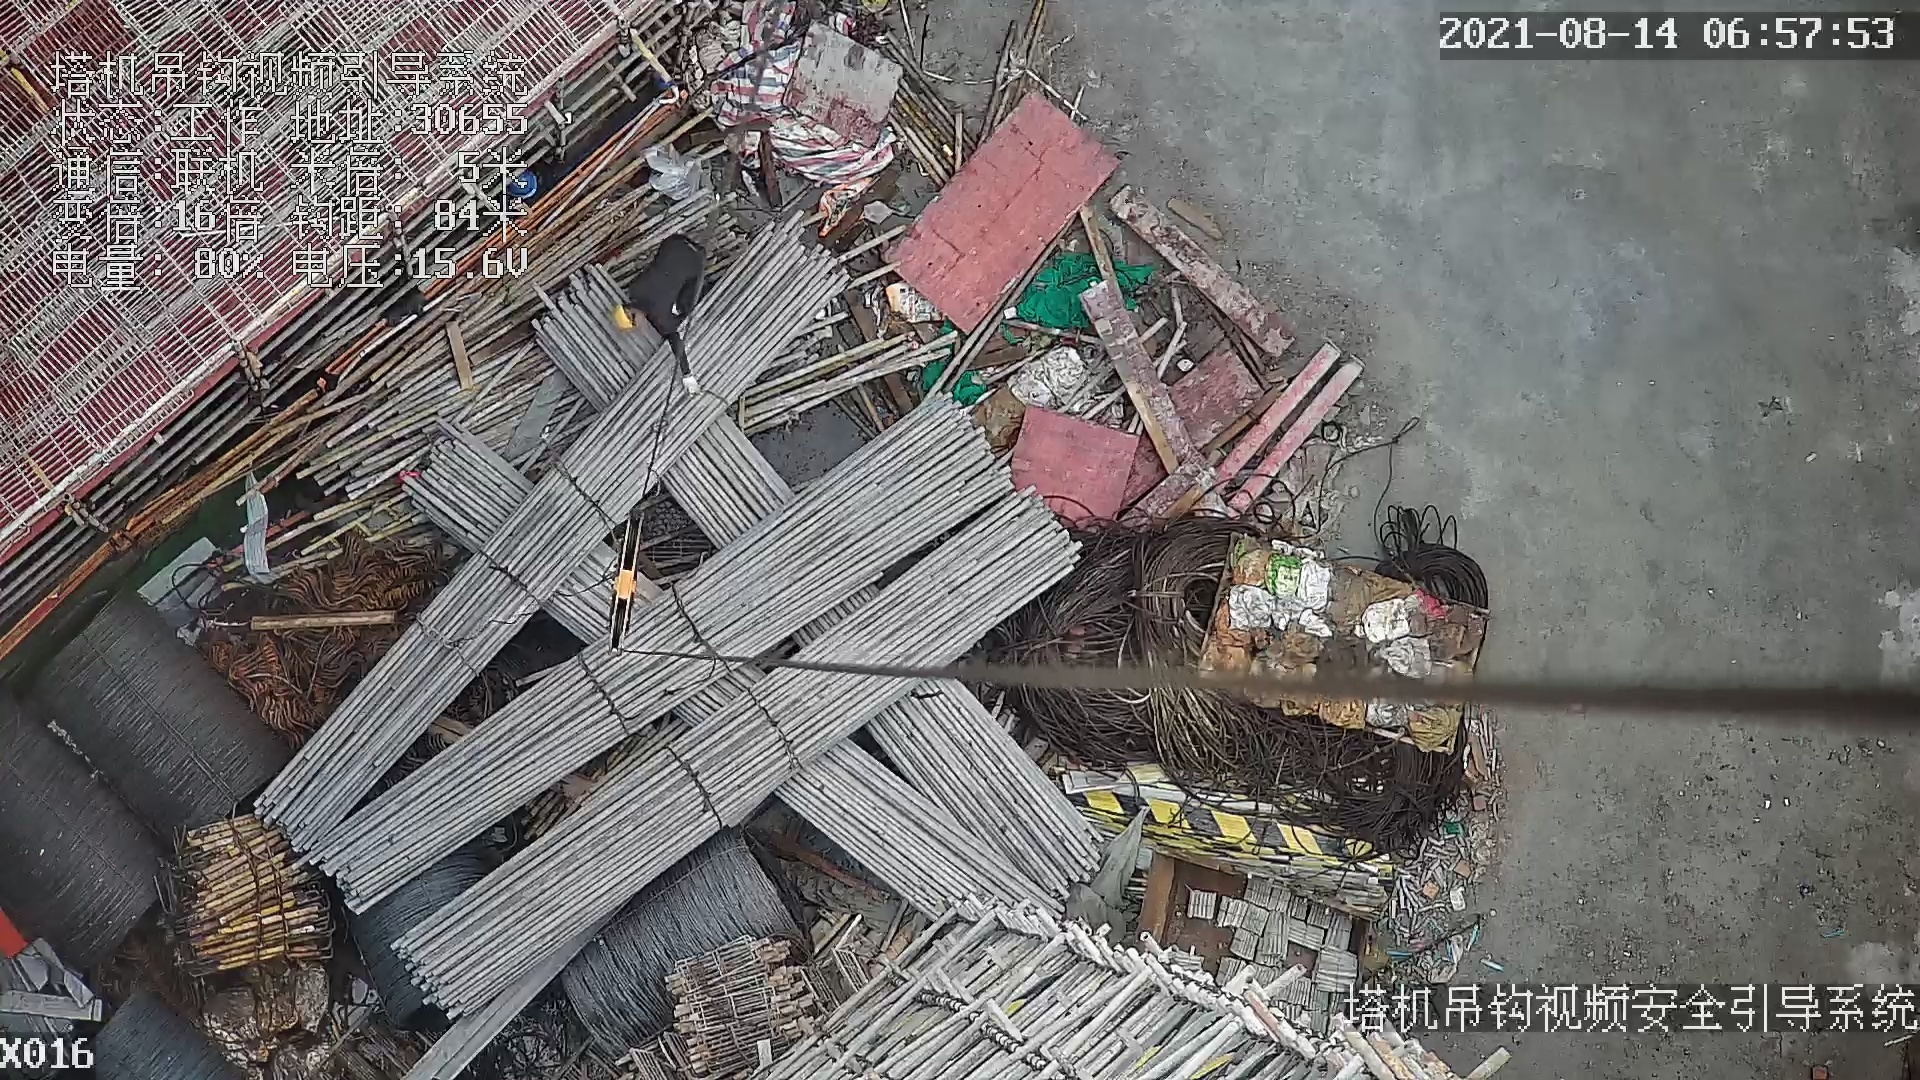helmet: (614, 303, 634, 329)
hook: (595, 509, 650, 665)
person: (614, 235, 713, 400)
rebar: (256, 216, 850, 857), (313, 392, 1021, 918), (394, 491, 1079, 1026), (773, 735, 1071, 919), (865, 665, 1105, 889)
scaffold: (159, 811, 338, 974)
